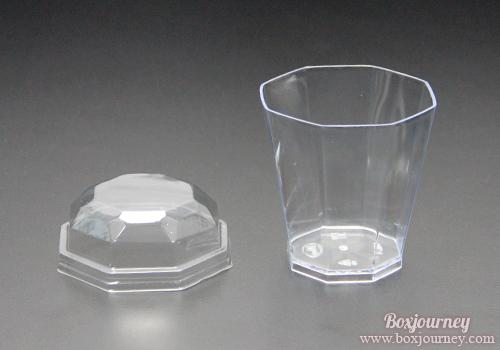plastic_glass: (254, 59, 447, 294)
